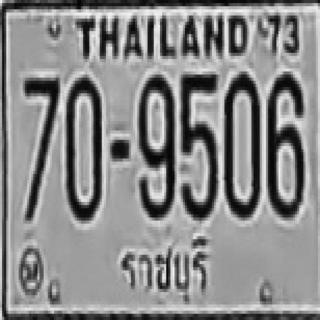N00: (222, 70, 260, 216), (64, 74, 100, 218)
N05: (179, 72, 216, 218)
N06: (266, 72, 304, 215)
N07: (23, 74, 58, 218), (23, 74, 58, 177)
N09: (137, 72, 172, 218)
P52: (115, 236, 220, 311)
